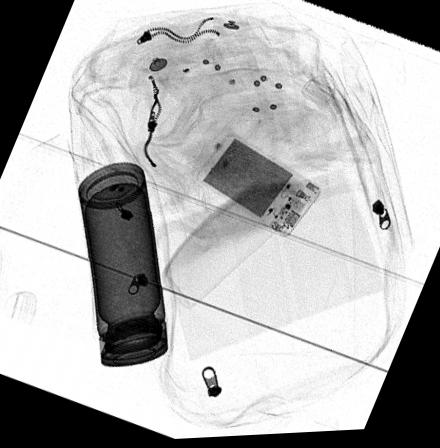Powerbank: (196, 136, 321, 240)
